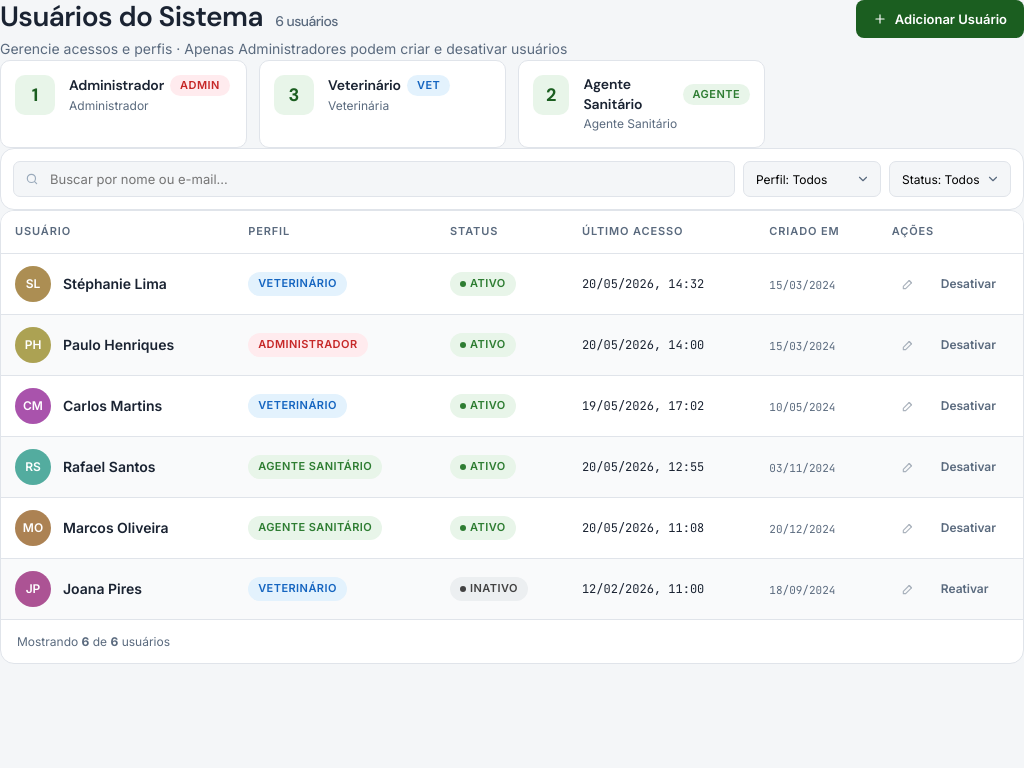
Test: Usuarios › exibe o campo CRMV apenas para o perfil Veterinário
Expected: the text "Stéphanie Lima" is shown, x1=63 y1=273 x2=167 y2=295
Click the button "Adicionar Usuário". click: x=940, y=19
box: x1=856 y1=0 x2=1023 y2=38
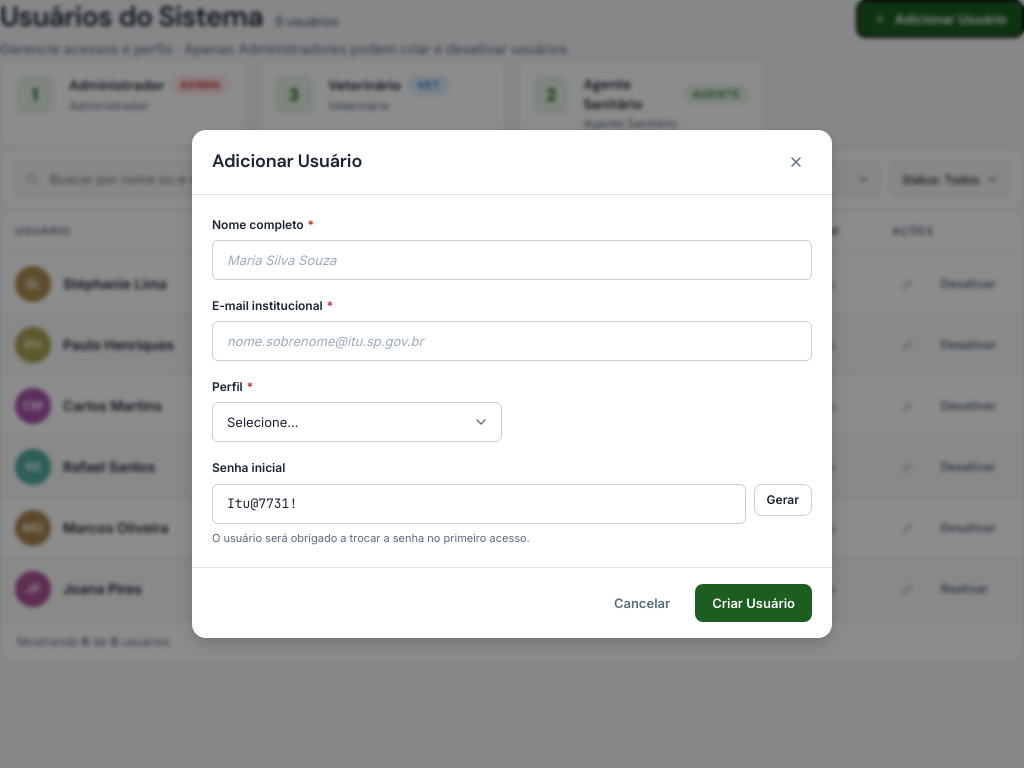
Expected: the field labelled "crmv" is not shown
Select "Veterinário" in the dropdown labelled "Perfil *". click: x=357, y=422
box: x1=212 y1=402 x2=502 y2=442
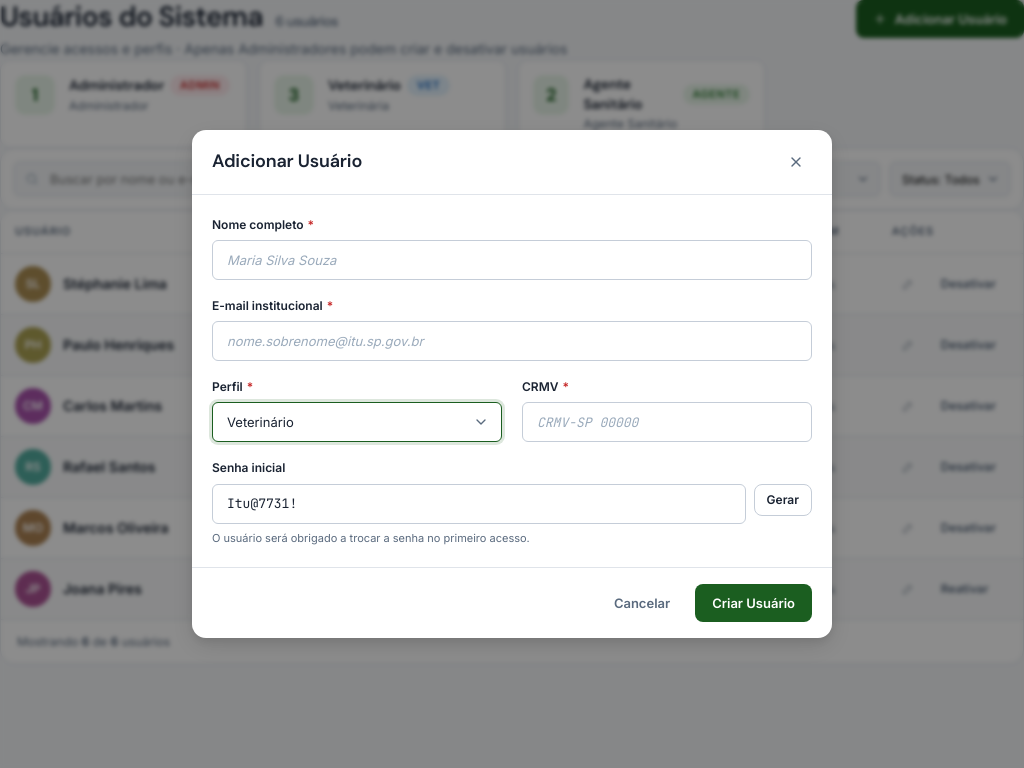
Expected: the field labelled "CRMV *" is shown, x1=522 y1=402 x2=812 y2=442
Select "Administrador" in the dropdown labelled "Perfil *". click: x=357, y=422
box: x1=212 y1=402 x2=502 y2=442
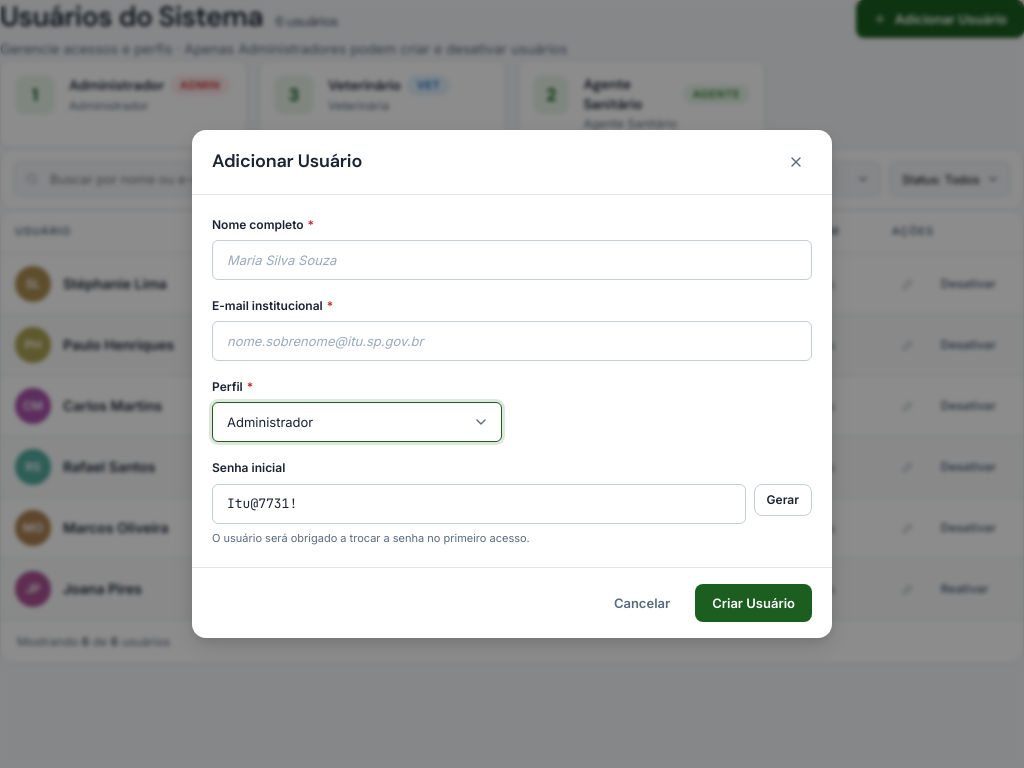
Expected: the label labelled "CRMV" is gone
